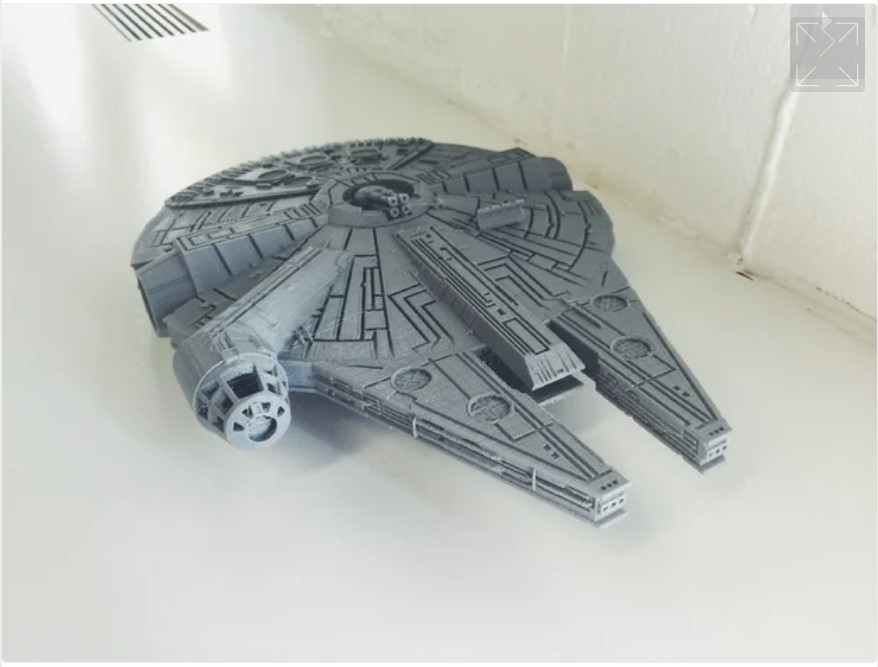Good: (125, 118, 758, 541)
